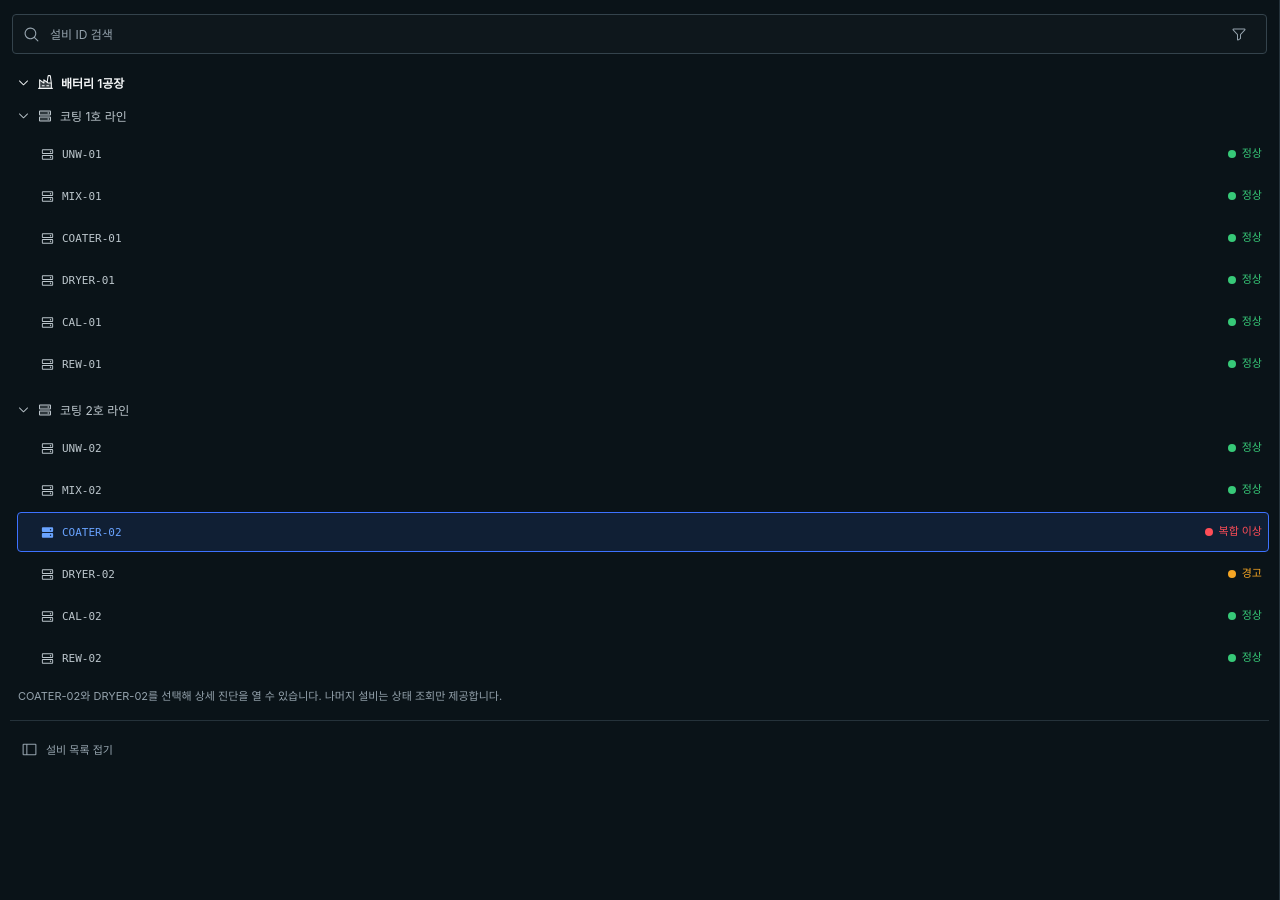
Test: operations interactions › reveals a search result even when the plant and matching line were collapsed
The image size is (1280, 900).
Click the button "코팅 2호 라인" at (95, 410), box [10,393,1269,426]
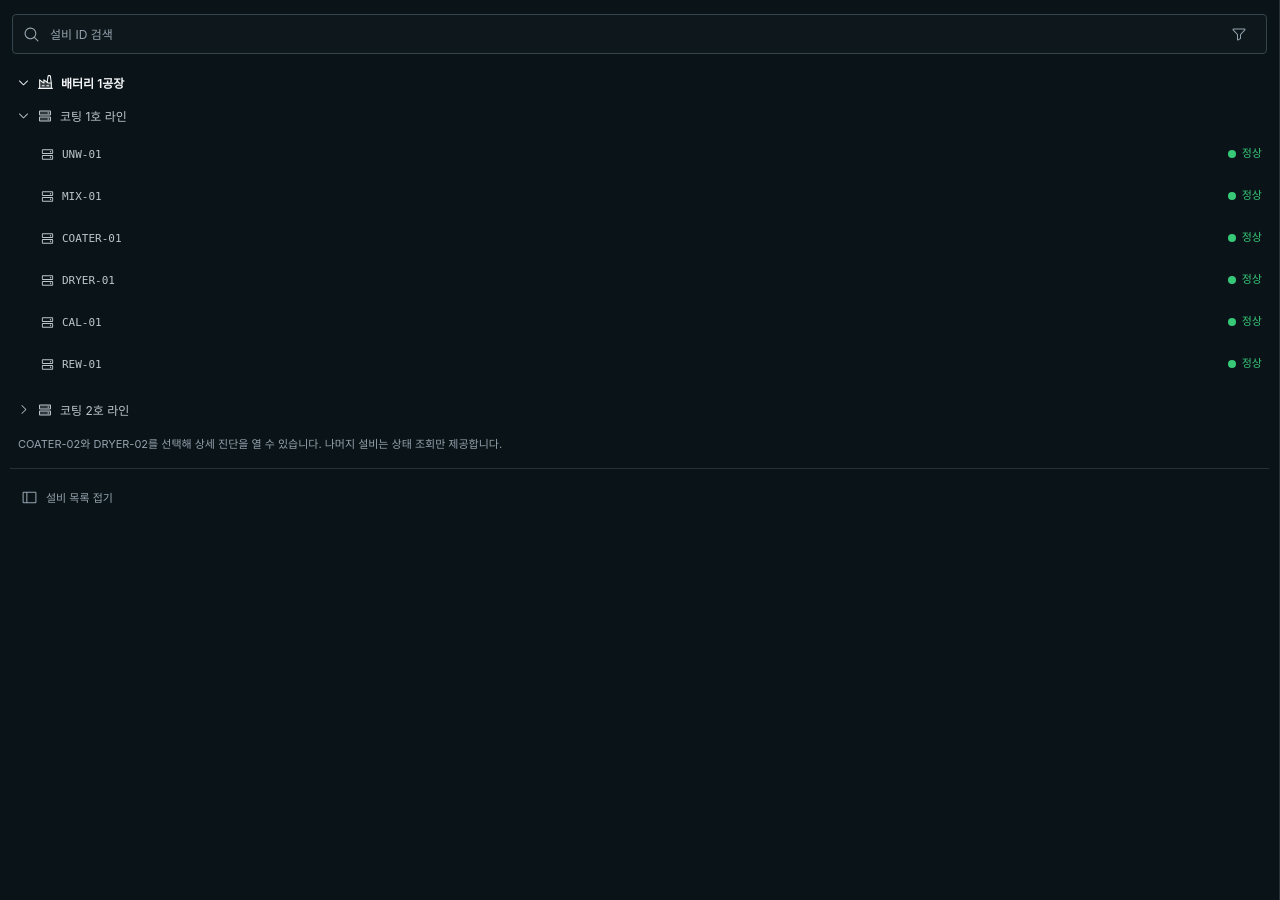
Click the button "배터리 1공장" at (93, 84), box [10,66,1269,99]
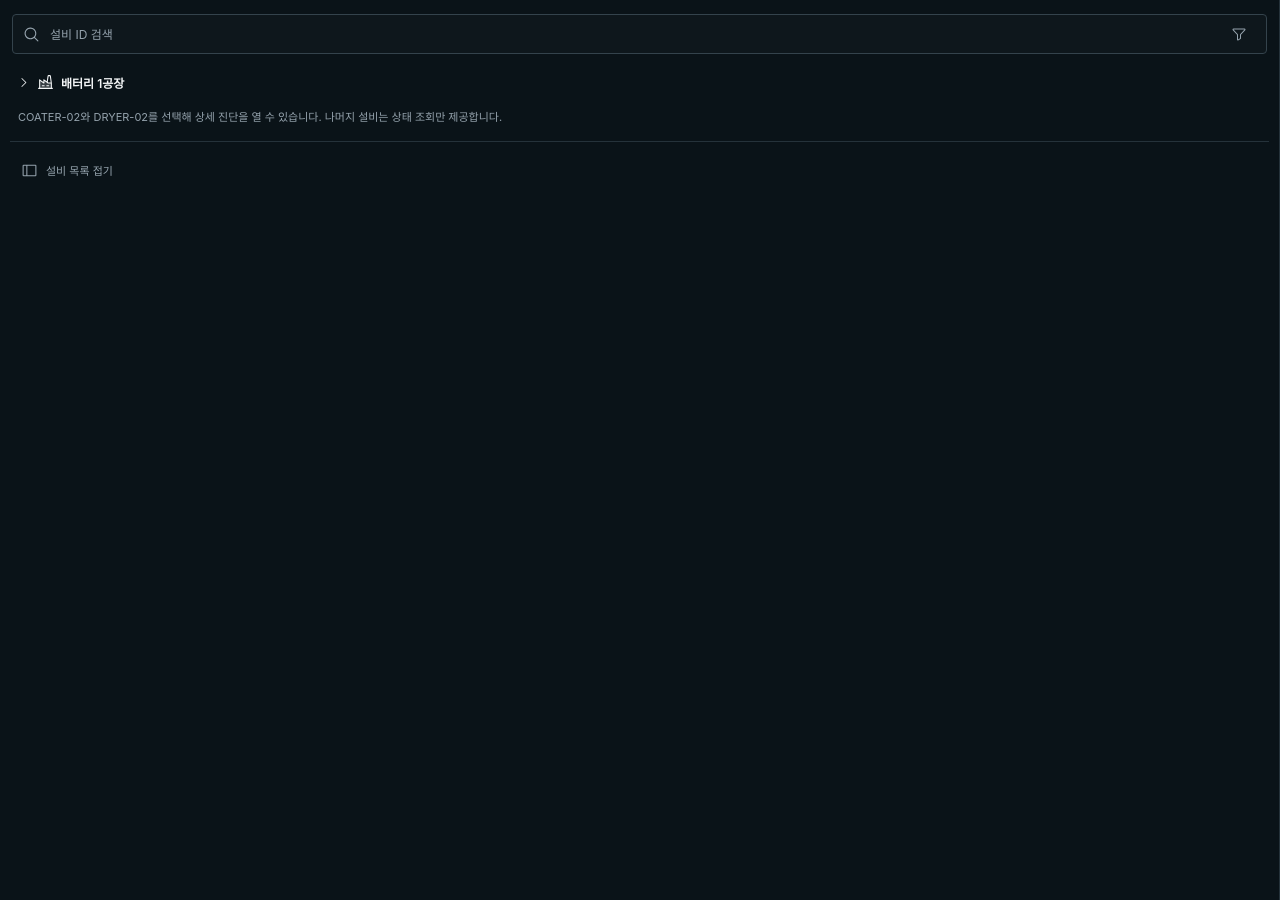
Type "COATER-02" into the field named "설비 검색" at (631, 34), box [48,26,1214,42]
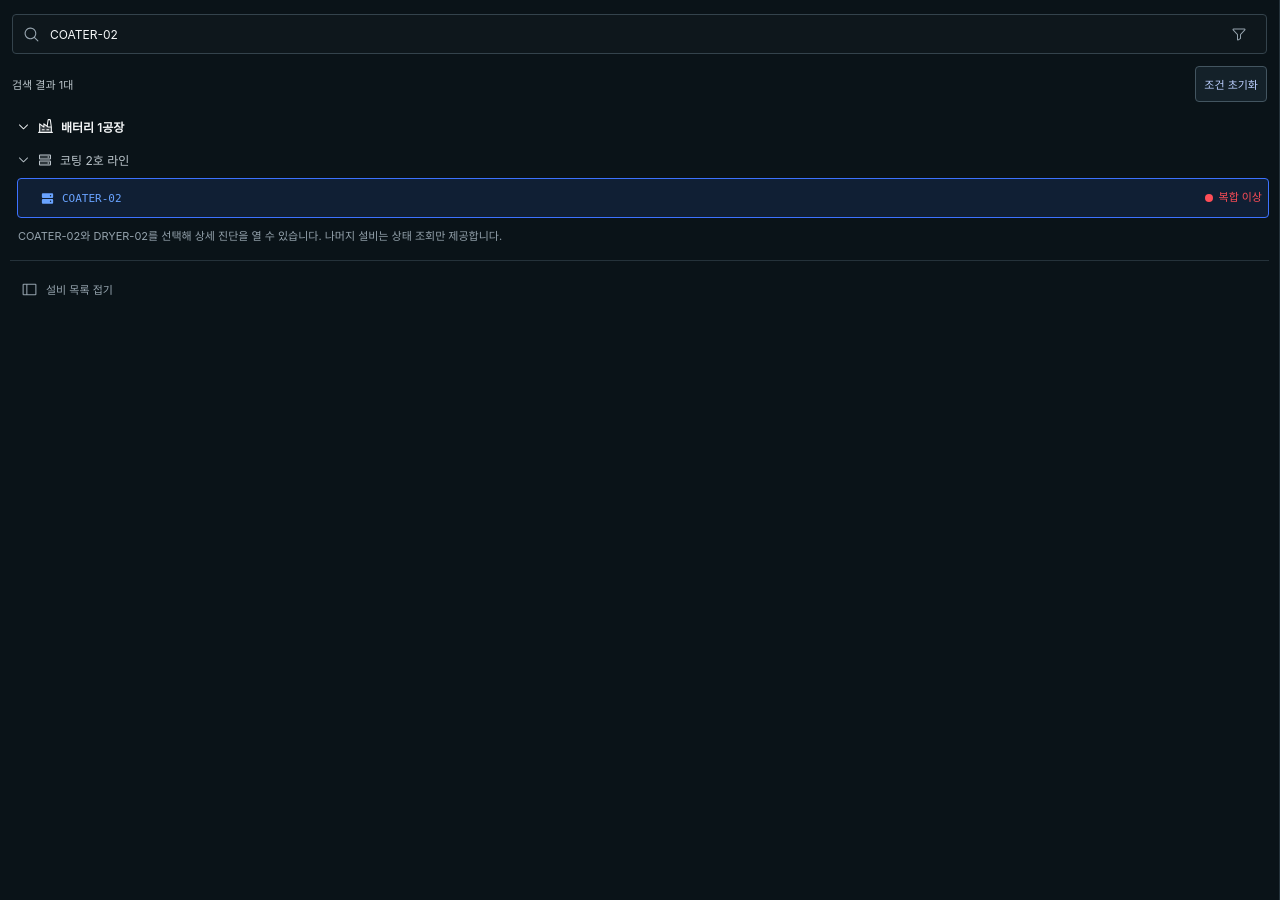
Expected: the text "COATER-02" is shown, [62,192,129,204]
Expected: the message shows "검색 결과 1대", [12,66,1267,102]
Replace the text in the field named "설비 검색" with "NOT-FOUND" at (631, 34), box [48,26,1214,42]
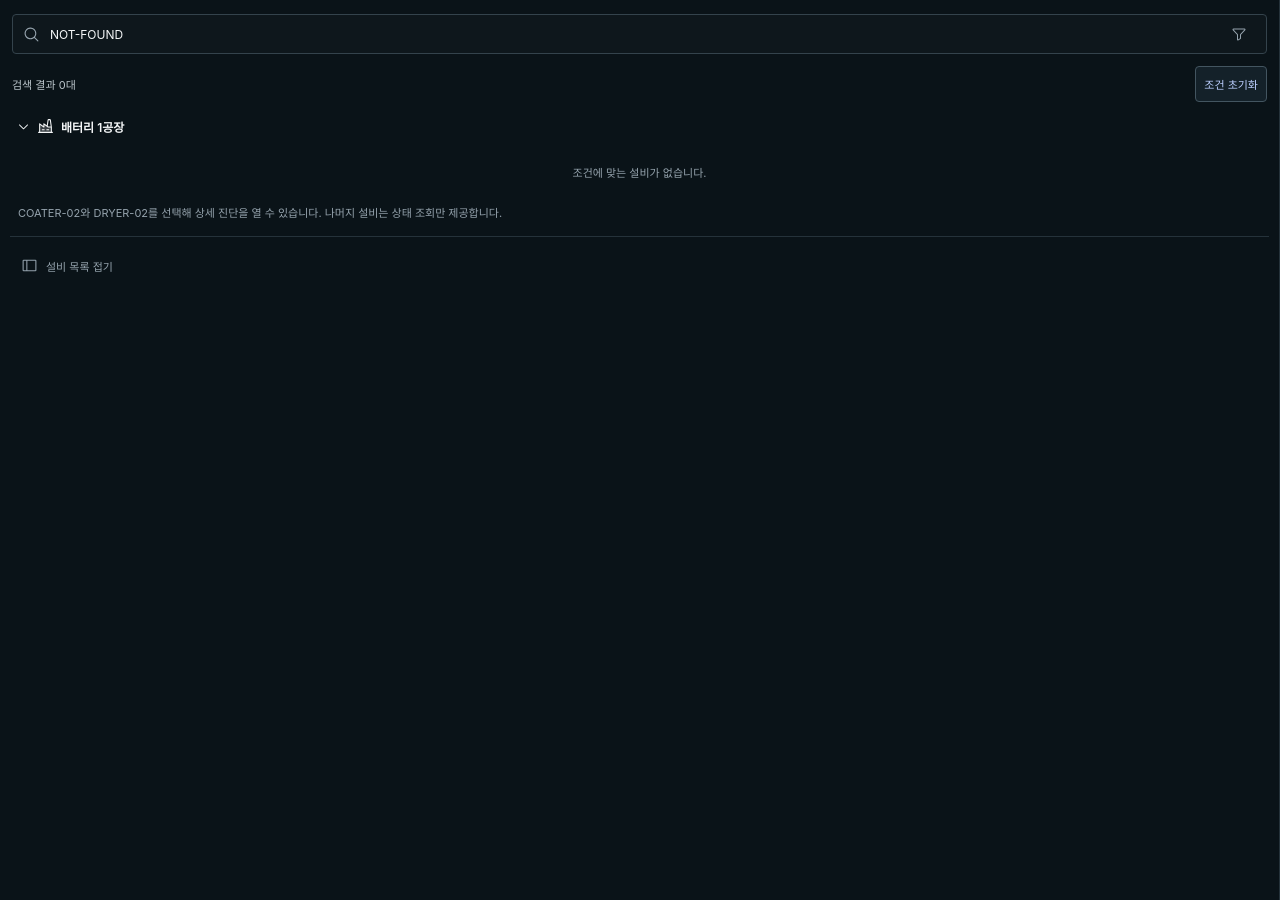
Expected: the text "조건에 맞는 설비가 없습니다." is shown, [572,166,706,180]
Click the button "조건 초기화" at (1231, 84), box [1195,66,1267,102]
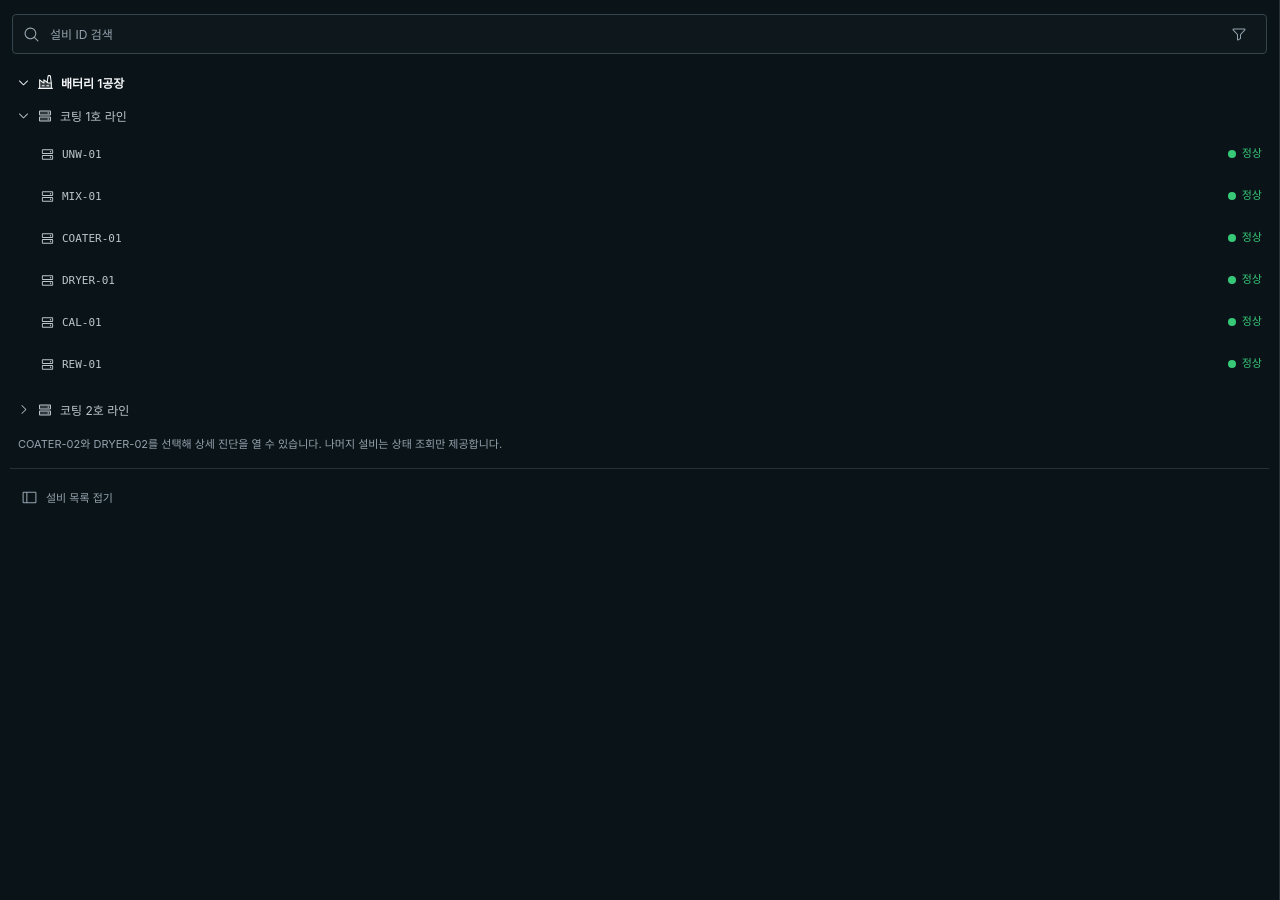
Expected: the field named "설비 검색" is empty, [48,26,1214,42]
